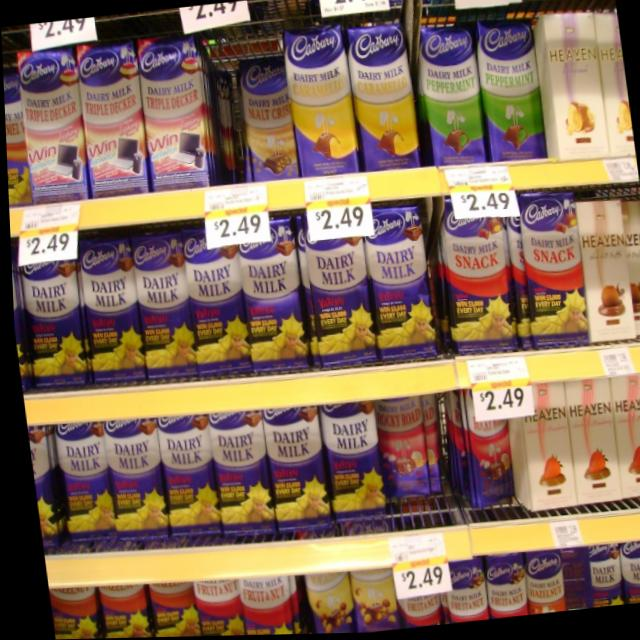q145: (359, 206, 438, 367), (294, 231, 376, 372), (124, 229, 193, 388), (176, 224, 248, 375), (232, 231, 306, 375), (14, 254, 88, 390), (76, 249, 147, 389), (45, 411, 111, 555), (255, 411, 331, 534), (314, 399, 386, 526), (147, 411, 216, 543), (199, 408, 268, 532), (97, 414, 164, 539)
